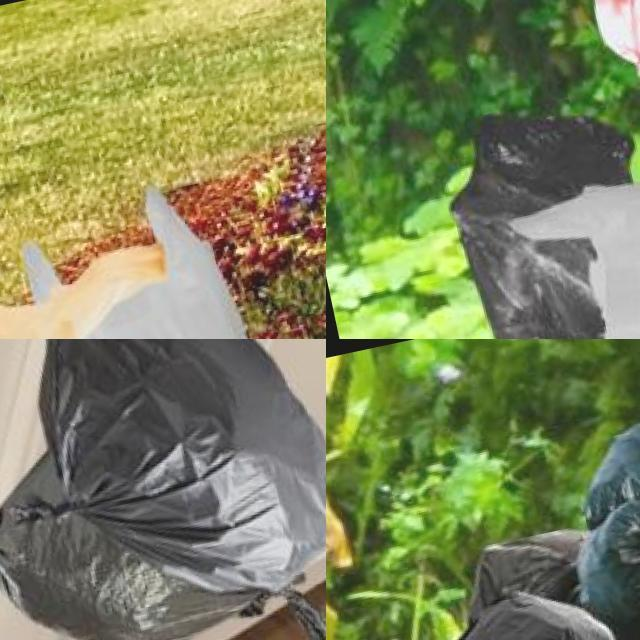waste: (18, 339, 326, 620), (0, 384, 326, 640), (431, 92, 640, 339), (7, 176, 283, 339), (439, 496, 640, 640), (502, 151, 640, 339), (398, 576, 640, 640), (567, 489, 640, 636), (571, 404, 640, 517)
